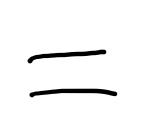eqv: (25, 45, 121, 99)
